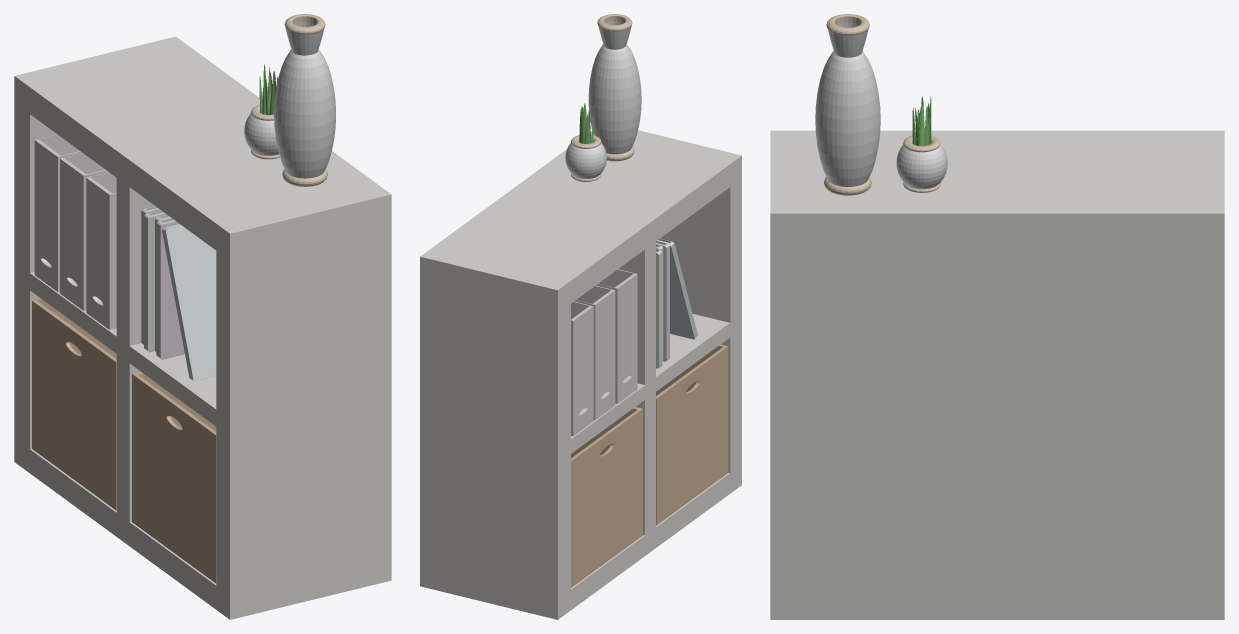
File: kallax.glb
The picture shows the model from 3 angles, left to right: view 1: azimuth 30°, elevation 25°; view 2: azimuth 150°, elevation 25°; view 3: azimuth 270°, elevation 25°; orthographic projection. The views are drawn at different scales.
Parts seen in each view (by area): view 1: Mesh_Mesh_head_geo.001_lambert2SG.001; view 2: Mesh_Mesh_head_geo.001_lambert2SG.001; view 3: Mesh_Mesh_head_geo.001_lambert2SG.001.
Boxes of the visible parts, x1,y1,x2,y2 form: Mesh_Mesh_head_geo.001_lambert2SG.001: (14, 14, 391, 619); Mesh_Mesh_head_geo.001_lambert2SG.001: (420, 14, 741, 619); Mesh_Mesh_head_geo.001_lambert2SG.001: (770, 14, 1224, 619).
Size of the model in its own units: 17.5 by 56.4 by 40.5.
